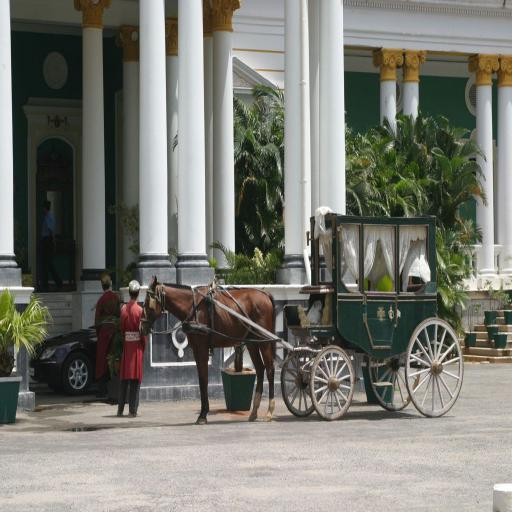horse: (138, 274, 278, 426)
